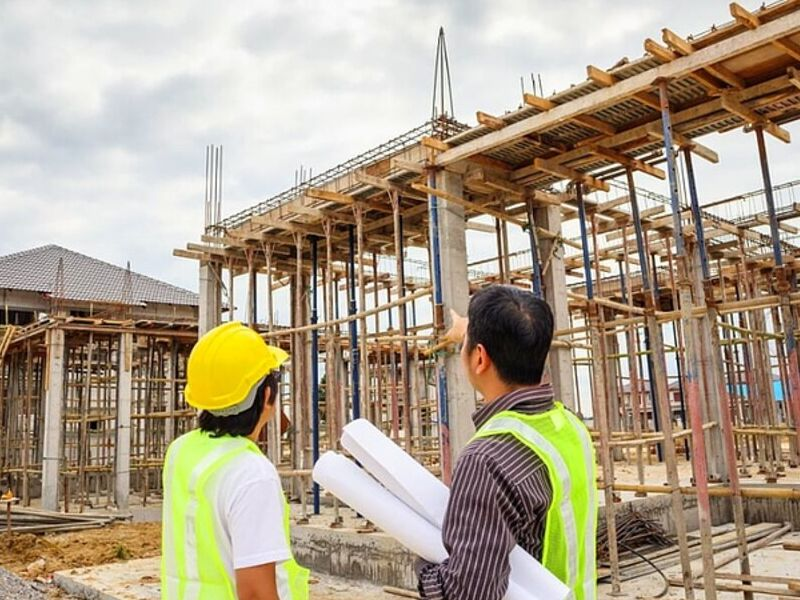Casco de seguridad: (185, 322, 288, 415)
